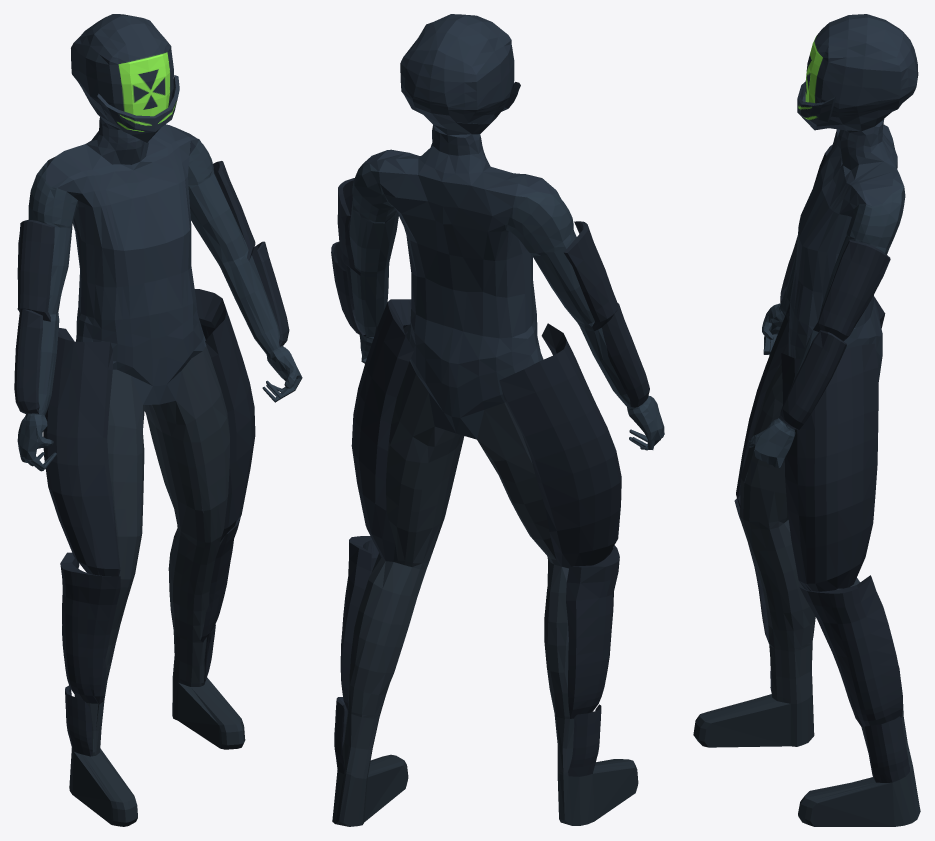
The model's file is Bastion_Stun_Recover_000008.obj.
3 views of the same model, side by side, from view 1: azimuth 30°, elevation 25°; view 2: azimuth 150°, elevation 25°; view 3: azimuth 270°, elevation 25° (orthographic). The views are drawn at different scales.
Parts seen in each view (by area): view 1: Cube.002; view 2: Cube.002; view 3: Cube.002.
Boxes of the visible parts, bbox=[...] form: Cube.002: bbox=[14, 14, 302, 826]; Cube.002: bbox=[331, 14, 664, 826]; Cube.002: bbox=[693, 14, 920, 826].
Bounding box in the file's own units: 1.52 × 3.85 × 1.04.
